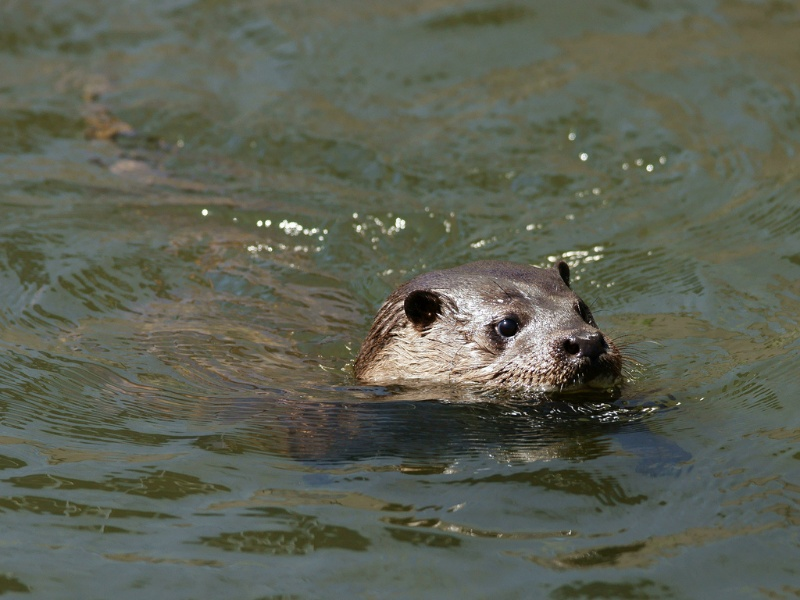minkish: (360, 245, 628, 421)
